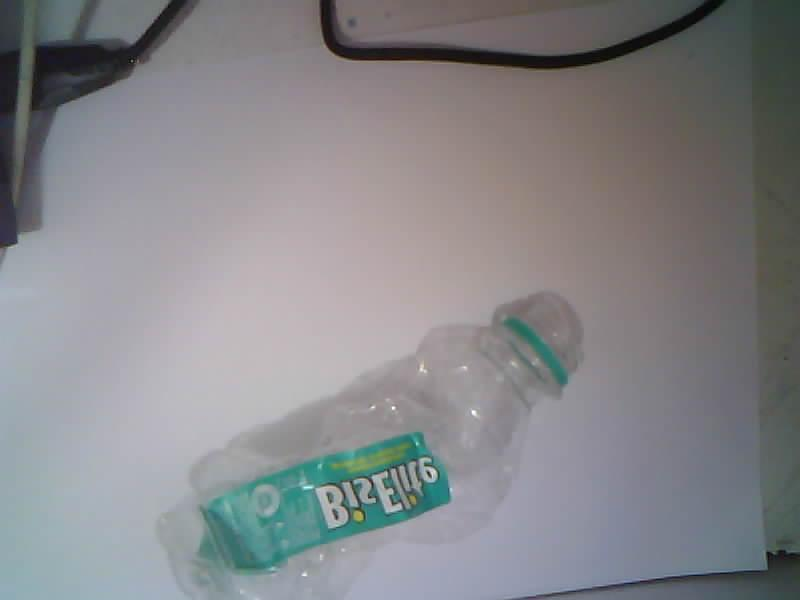non-biodegradable: (158, 293, 581, 599)
